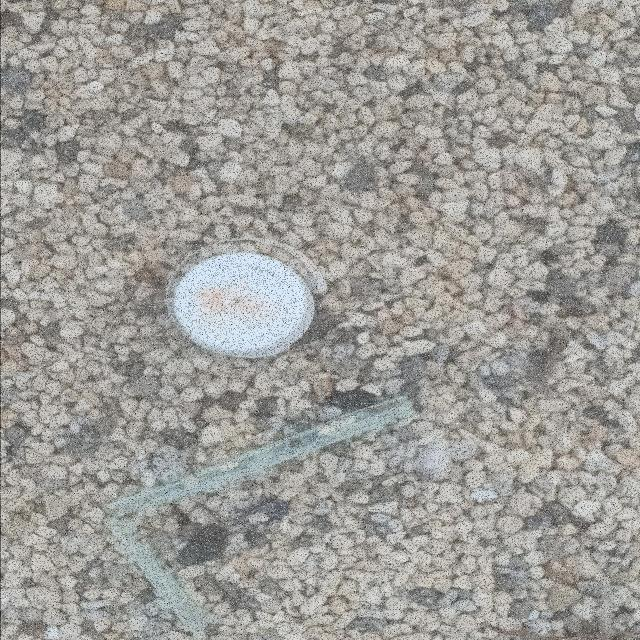plastic_waste: (103, 395, 414, 639), (170, 252, 319, 359)
